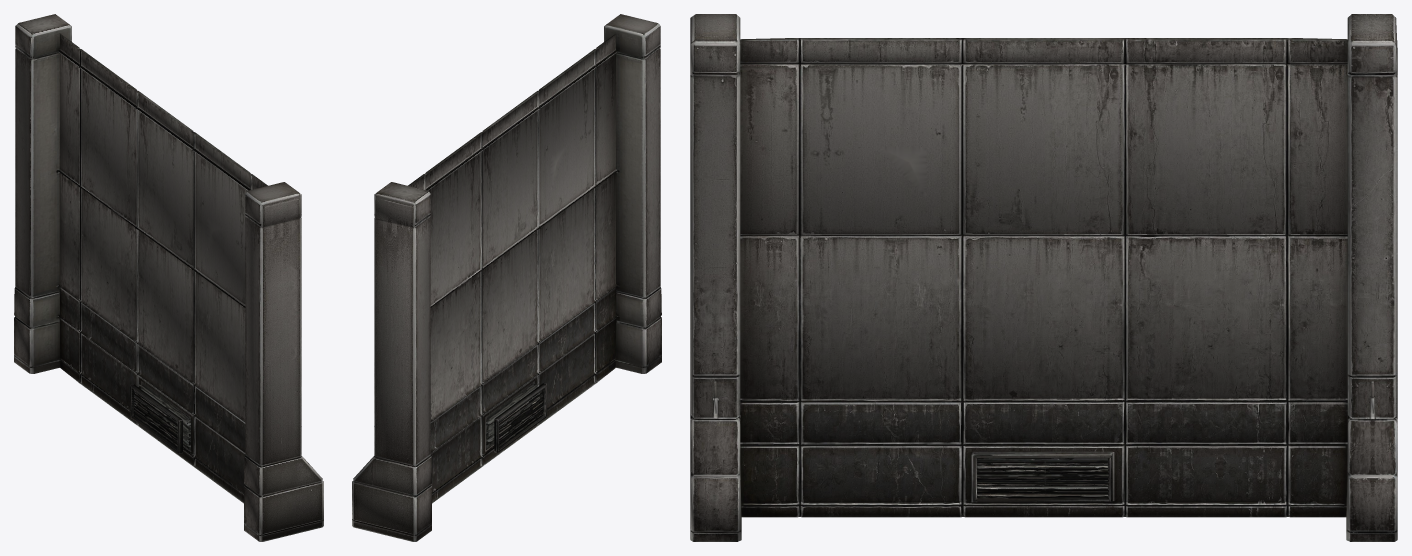
The model's file is Concrete_wall_Large_1B.glb.
The picture shows the model from 3 angles, left to right: view 1: azimuth 30°, elevation 25°; view 2: azimuth 150°, elevation 25°; view 3: azimuth 270°, elevation 25°; orthographic projection. The views are drawn at different scales.
Visible parts, largest first — view 1: tripo_node_cc88cba6-7b22-4108-bf8d-6e881a6a9c72; view 2: tripo_node_cc88cba6-7b22-4108-bf8d-6e881a6a9c72; view 3: tripo_node_cc88cba6-7b22-4108-bf8d-6e881a6a9c72.
Part boxes in pixels (box(x1,y1,x2,y2)): tripo_node_cc88cba6-7b22-4108-bf8d-6e881a6a9c72: box(14, 14, 323, 541); tripo_node_cc88cba6-7b22-4108-bf8d-6e881a6a9c72: box(352, 14, 661, 541); tripo_node_cc88cba6-7b22-4108-bf8d-6e881a6a9c72: box(690, 14, 1397, 541).
Size of the model in its own units: 0.1504 by 0.7558 by 0.998.
Materials: 1 (1 with a texture image).
